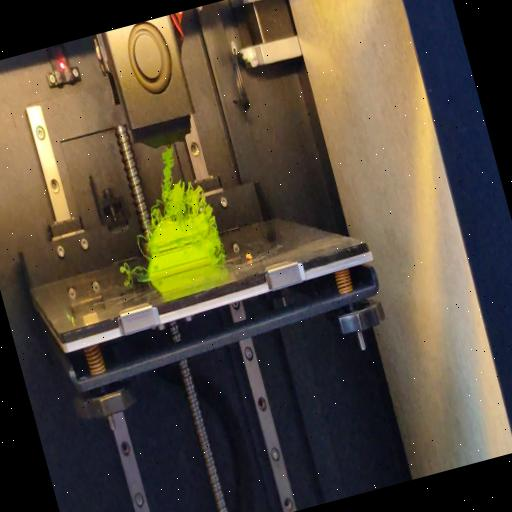spaghetti: (134, 140, 214, 228), (132, 229, 156, 261), (118, 257, 150, 280), (204, 213, 220, 238), (217, 249, 225, 263)
